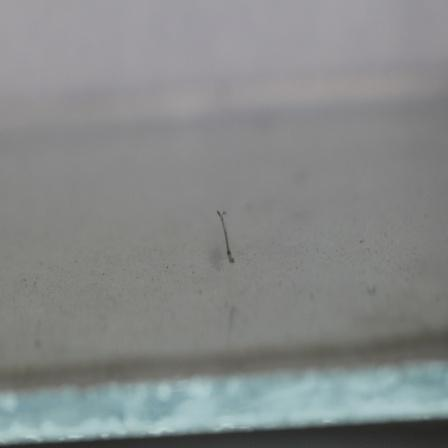Jentik-Nyamuk: (212, 204, 238, 270)
